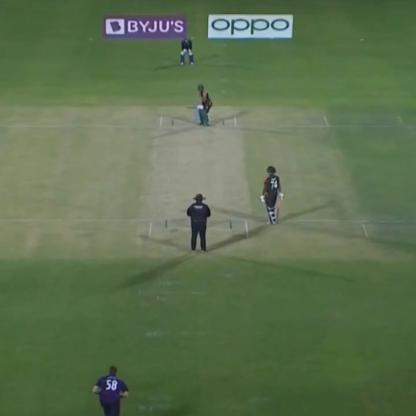pitch: (146, 113, 250, 245)
